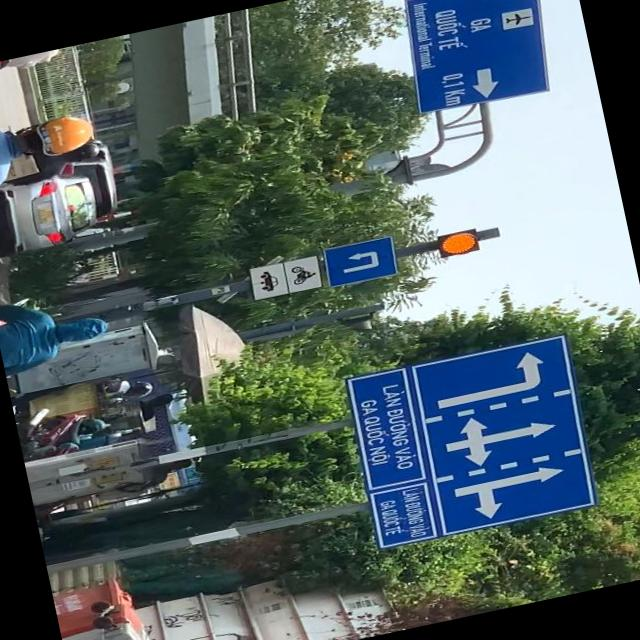I-409: (325, 238, 399, 286)
